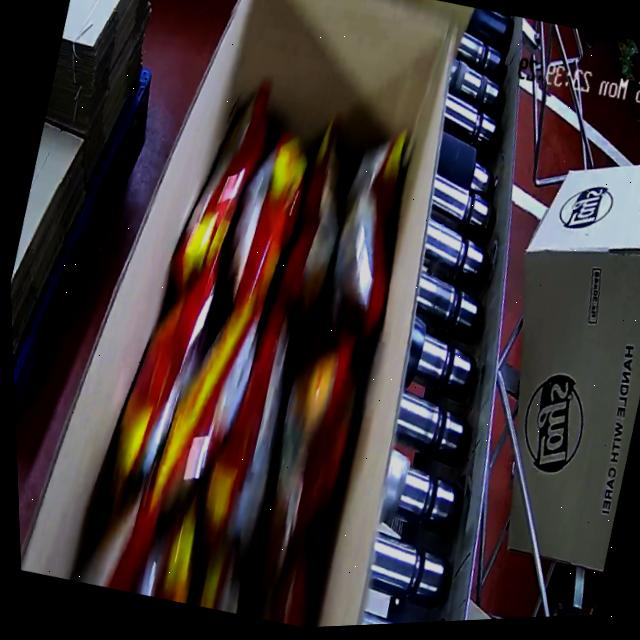MASALA: (47, 44, 450, 638)
